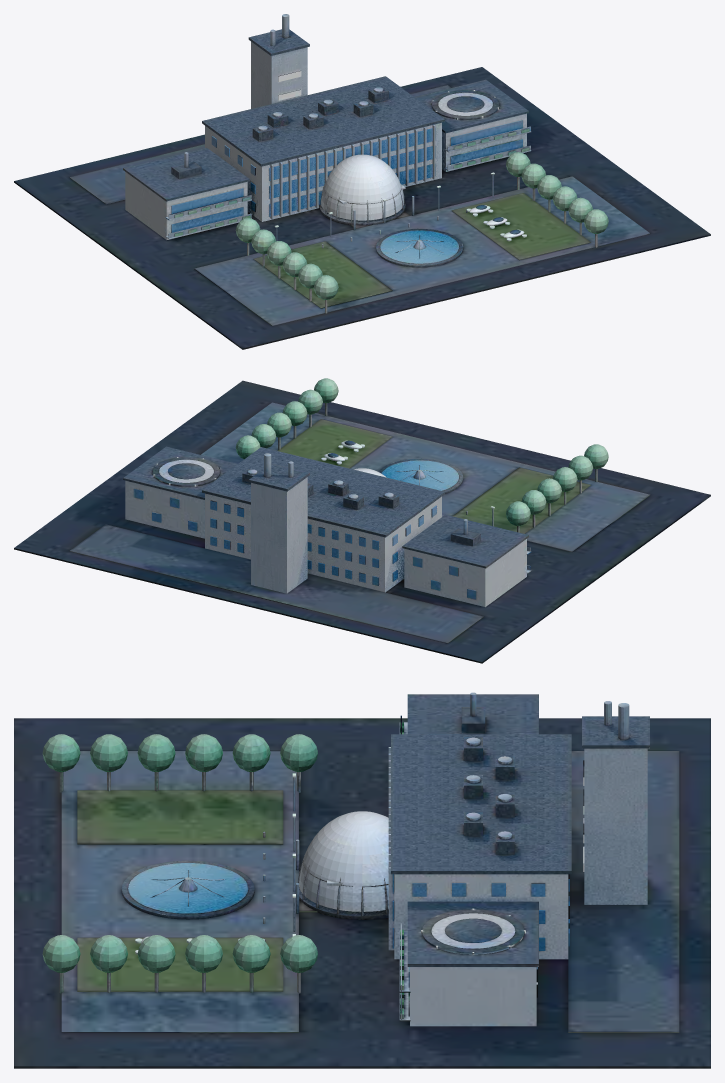
The model's file is rebirth_workshop_low.glb.
3 renders of one model, top to bottom at view 1: azimuth 30°, elevation 25°; view 2: azimuth 150°, elevation 25°; view 3: azimuth 270°, elevation 25°, orthographic. The views are drawn at different scales.
Parts seen in each view (by area): view 1: site_ground, props_main, props_wings, props_court, props_dome; view 2: site_ground, props_main, props_wings, props_court; view 3: site_ground, props_main, props_wings, props_court, props_dome.
Boxes of the visible parts, box(x1,y1,x2,y2) form: site_ground: box(14, 67, 710, 349); props_main: box(202, 14, 444, 230); props_wings: box(123, 79, 531, 239); props_court: box(235, 152, 608, 313); props_dome: box(319, 154, 405, 225); site_ground: box(14, 380, 710, 663); props_main: box(202, 447, 444, 593); props_wings: box(123, 446, 531, 607); props_court: box(235, 378, 608, 532); site_ground: box(14, 718, 710, 1068); props_main: box(296, 701, 649, 959); props_wings: box(399, 692, 538, 1026); props_court: box(42, 734, 317, 993); props_dome: box(298, 811, 388, 919).
Size of the model in its own units: 104 by 27.3 by 88.
5 materials, 5 textured.
